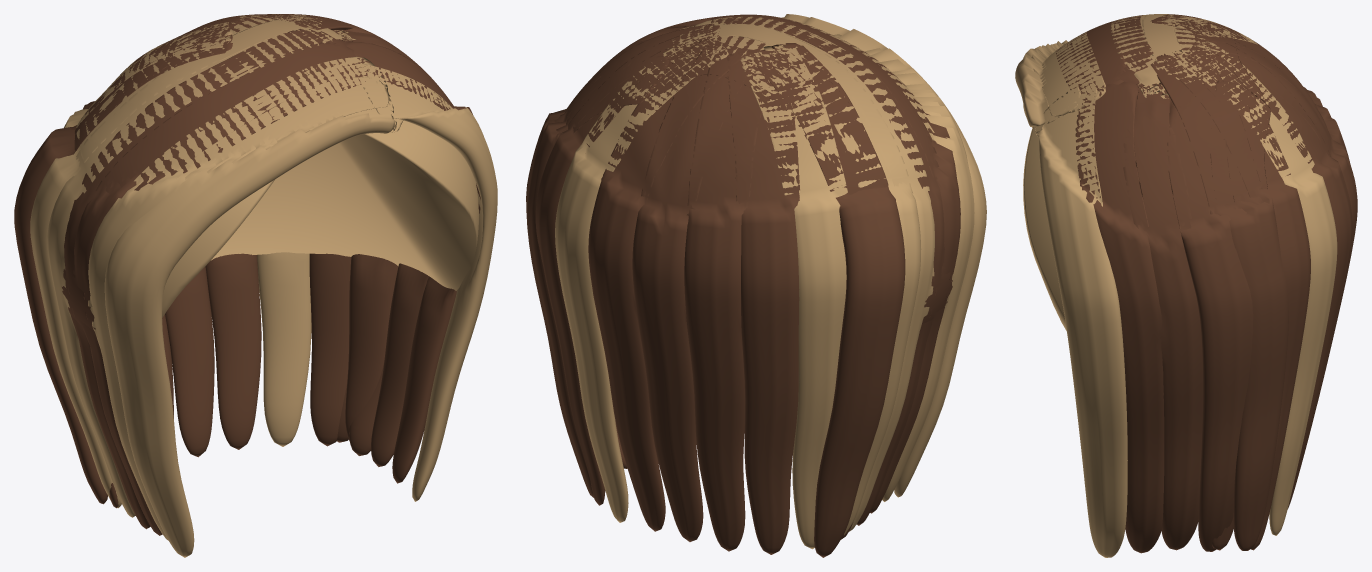
Rendered from Highlights-00ad0067a641251-hair.glb.
3 views of the same model, side by side, from view 1: azimuth 30°, elevation 25°; view 2: azimuth 150°, elevation 25°; view 3: azimuth 270°, elevation 25° (orthographic). The views are drawn at different scales.
Parts seen in each view (by area): view 1: 226 hair / Hair / sculpted 0.004, 226 hair / Hair / sculpted 1.008, 226 hair / Hair / sculpted 2.004, 226 hair / Hair / sculpted 1.007; view 2: 226 hair / Hair / sculpted 0.004, 226 hair / Hair / sculpted 2.004, 226 hair / Hair / sculpted 1.008; view 3: 226 hair / Hair / sculpted 1.008, 226 hair / Hair / sculpted 2.004, 226 hair / Hair / sculpted 0.004, 226 hair / Hair / sculpted 1.007.
Part boxes in pixels (left/top/right/bottom): 226 hair / Hair / sculpted 0.004: left=14, top=14, right=437, bottom=557; 226 hair / Hair / sculpted 1.008: left=47, top=14, right=497, bottom=540; 226 hair / Hair / sculpted 2.004: left=30, top=14, right=480, bottom=535; 226 hair / Hair / sculpted 1.007: left=162, top=120, right=478, bottom=318; 226 hair / Hair / sculpted 0.004: left=555, top=14, right=986, bottom=557; 226 hair / Hair / sculpted 2.004: left=526, top=14, right=960, bottom=549; 226 hair / Hair / sculpted 1.008: left=526, top=14, right=974, bottom=554; 226 hair / Hair / sculpted 1.008: left=1031, top=14, right=1352, bottom=557; 226 hair / Hair / sculpted 2.004: left=1056, top=14, right=1357, bottom=553; 226 hair / Hair / sculpted 0.004: left=1015, top=14, right=1349, bottom=550; 226 hair / Hair / sculpted 1.007: left=1023, top=104, right=1066, bottom=330.
Bounding box in the file's own units: 1.02 × 1.17 × 0.7803.
